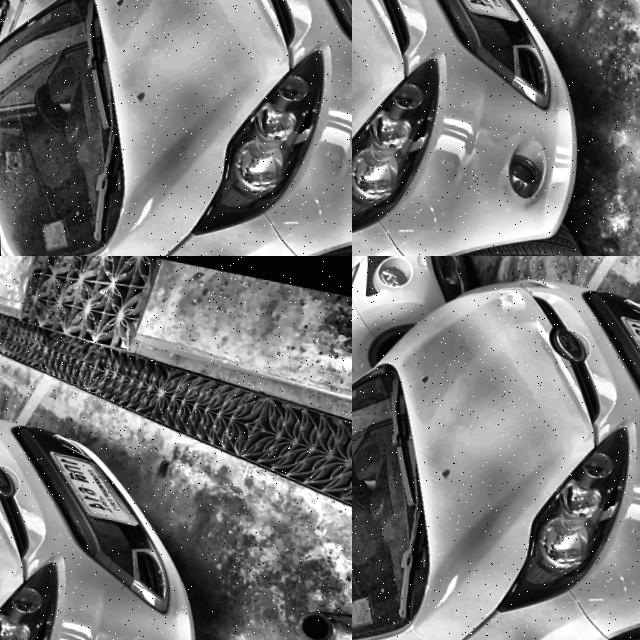license-plate: (37, 436, 148, 522), (608, 300, 640, 386)
